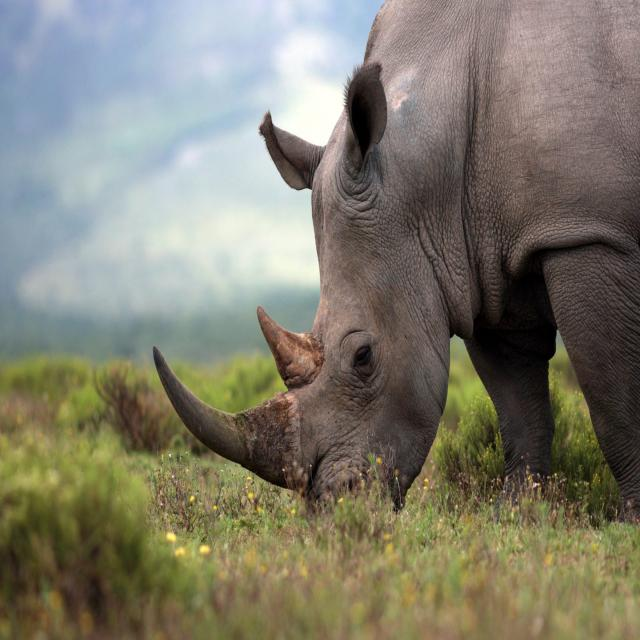rhinoceros: (154, 0, 640, 513)
